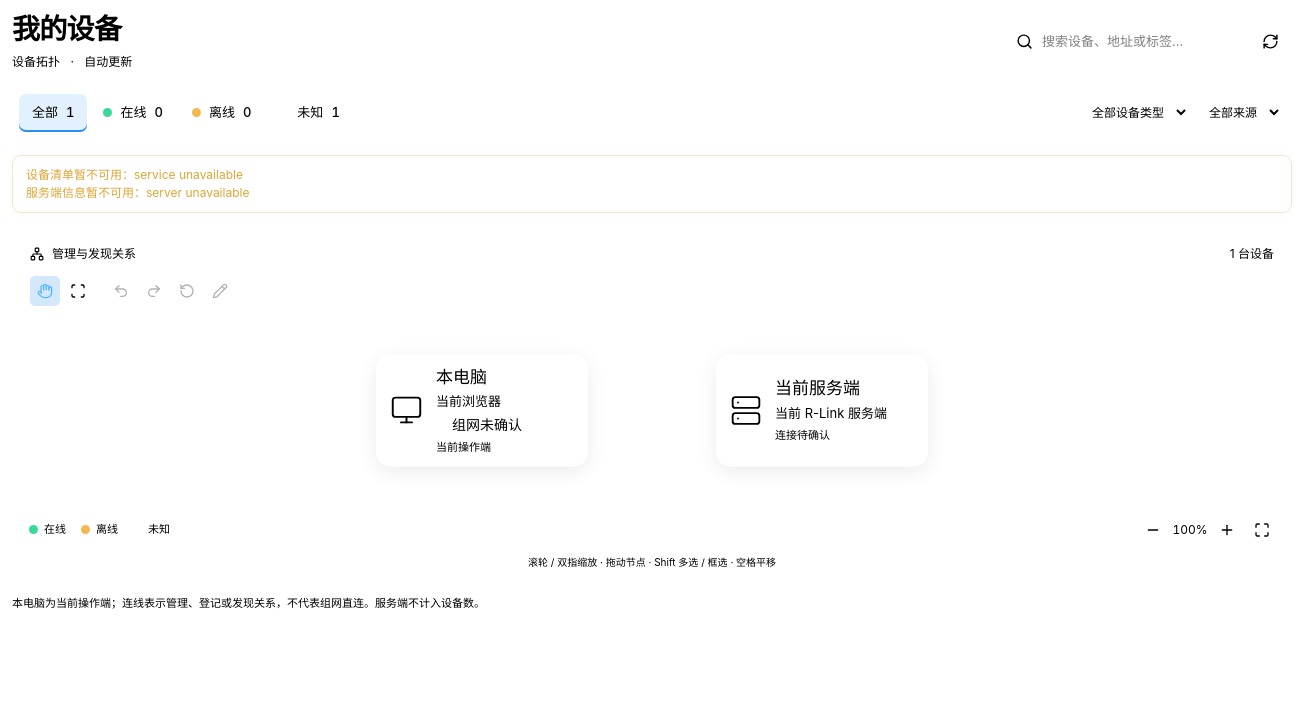
Test: keeps this computer visible when the service fails without inventing a hostname
expect the message "设备清单暂不可用：service unavailable 服务端信息暂不可用：server unavailable" is shown: met, box x1=12 y1=154 x2=1292 y2=212
Click the button with aria-label "查看设备：本电脑".
click(482, 410)  # box x1=376 y1=354 x2=588 y2=466
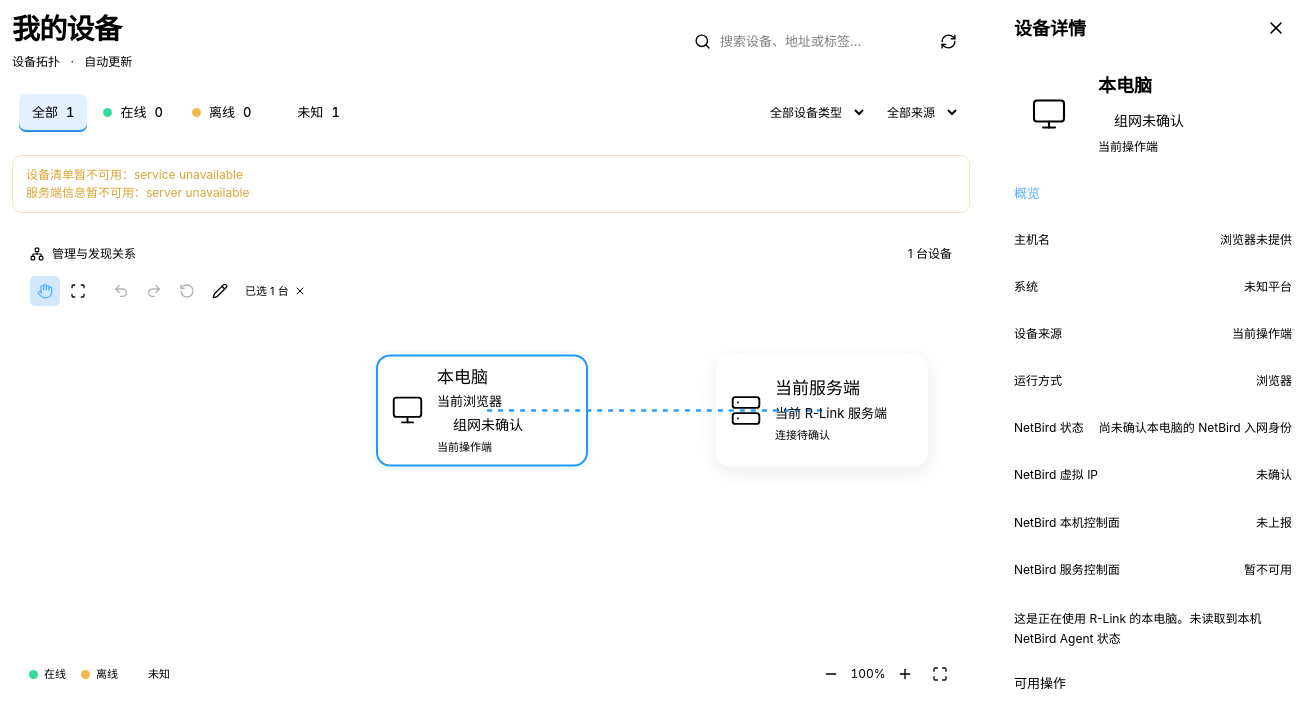
expect the text "浏览器未提供" is shown: met, box x1=1220 y1=230 x2=1292 y2=249
